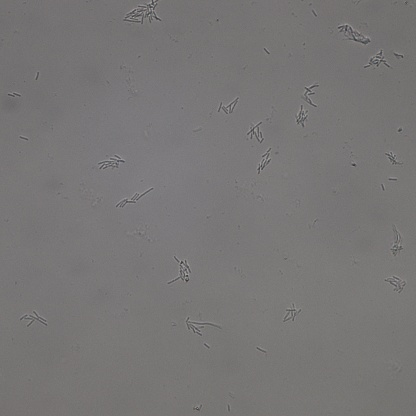R(colony): (123, 1, 161, 24), (116, 188, 153, 207), (338, 23, 370, 44), (186, 317, 221, 336), (169, 256, 191, 283), (365, 49, 391, 67), (20, 311, 48, 327), (391, 224, 403, 256), (98, 155, 125, 169), (247, 121, 264, 143), (284, 303, 302, 323), (385, 275, 405, 293), (217, 98, 238, 115), (302, 83, 318, 105), (258, 148, 272, 173), (295, 106, 308, 127), (386, 151, 402, 166)
